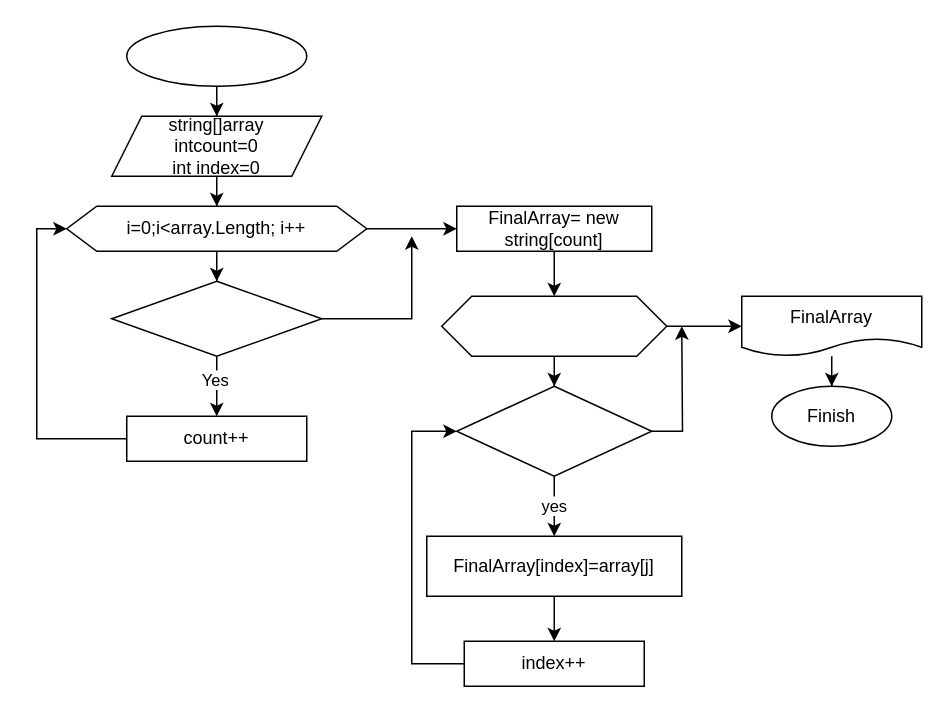
This 948x713 diagram has some shape labels left out. Each missing label, with the box of its shape:
array[i].Length<4: (110, 280, 322, 356)
array[j].Length<4: (455, 385, 652, 476)
j=0; j<array.Lenght; j++: (440, 295, 667, 356)
Start: (125, 25, 307, 86)
